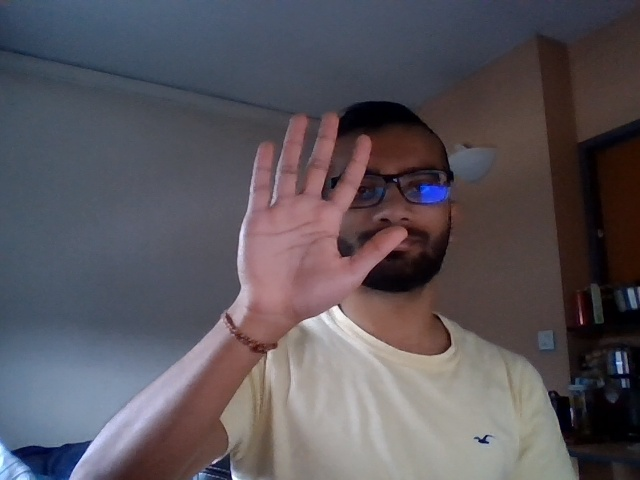Hello: (217, 97, 413, 324)
